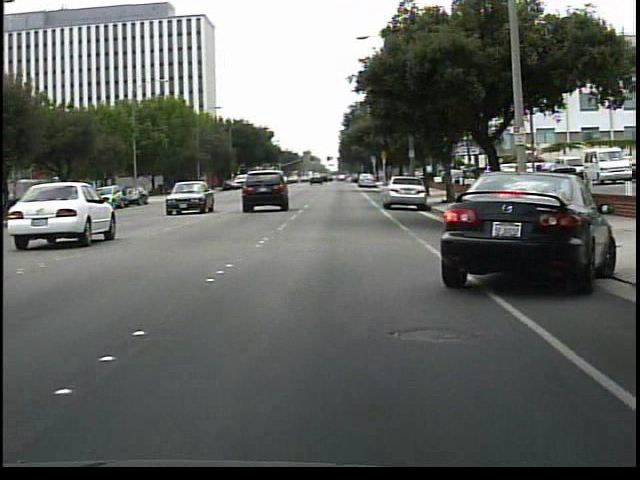person: (513, 162, 533, 213), (529, 159, 549, 195)
